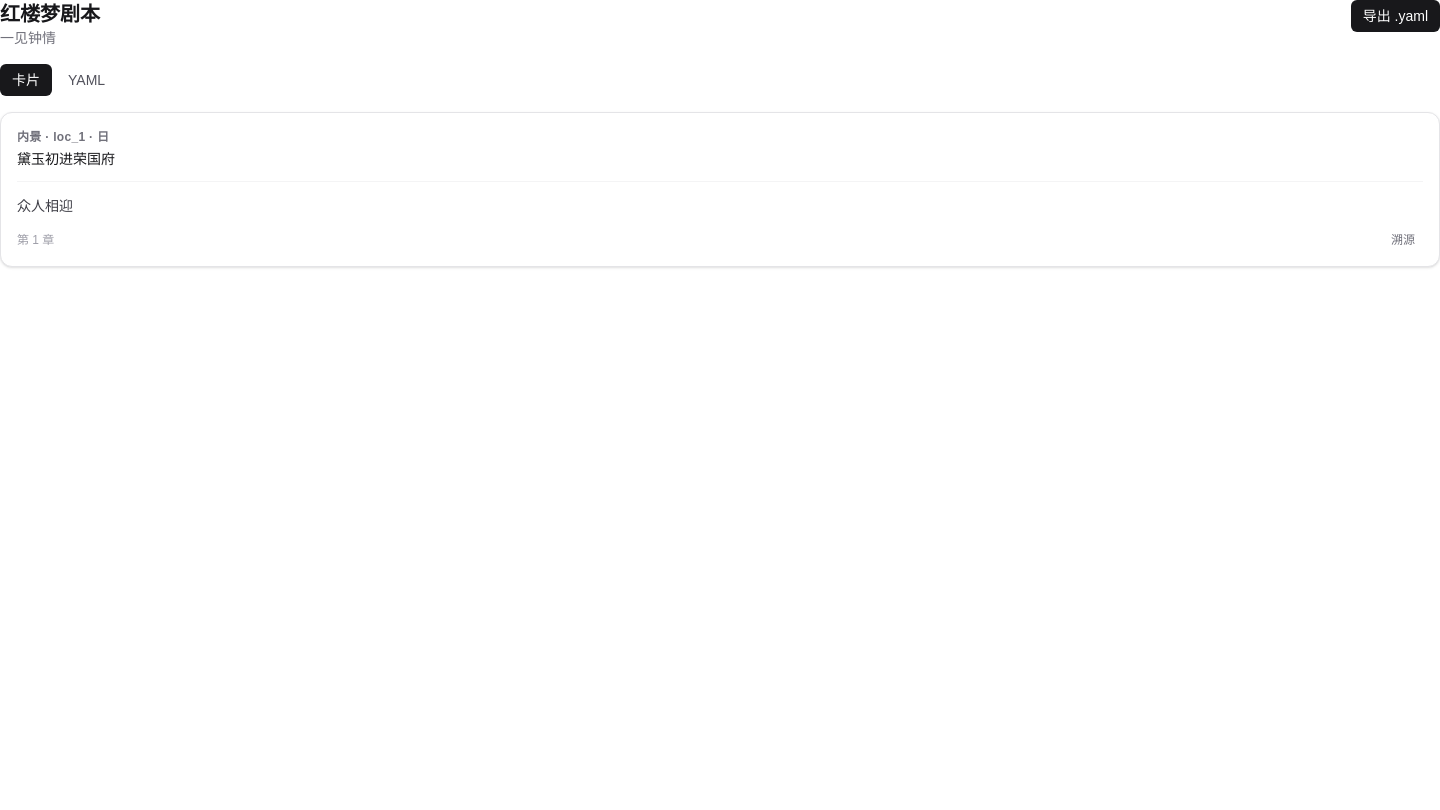
ScreenplayView › threads novel down so a card's 溯源 opens the source modal
Click the button "溯源" at (1403, 240), box 1383,230 -> 1423,250
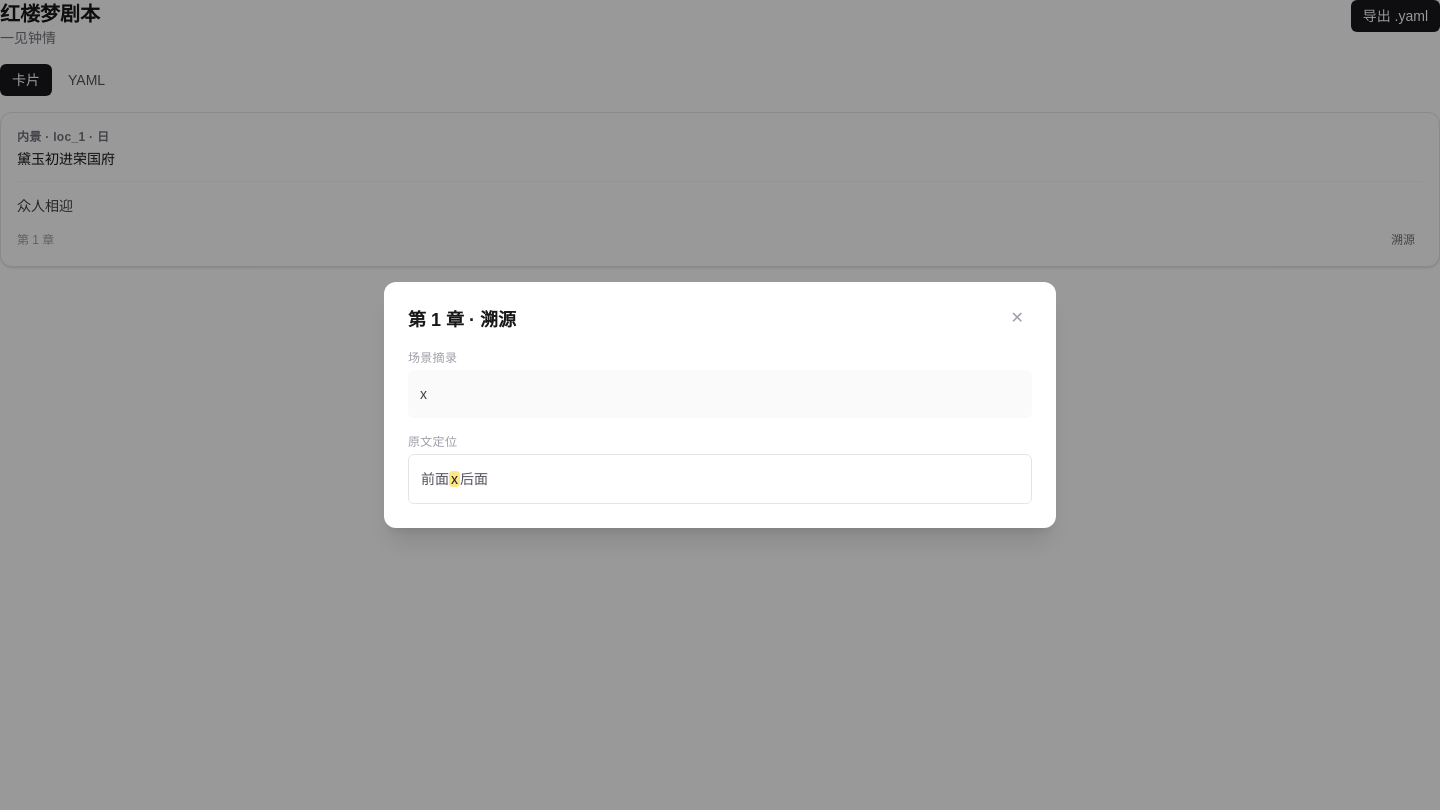
Expected: the dialog is shown, 384,282 -> 1056,528
